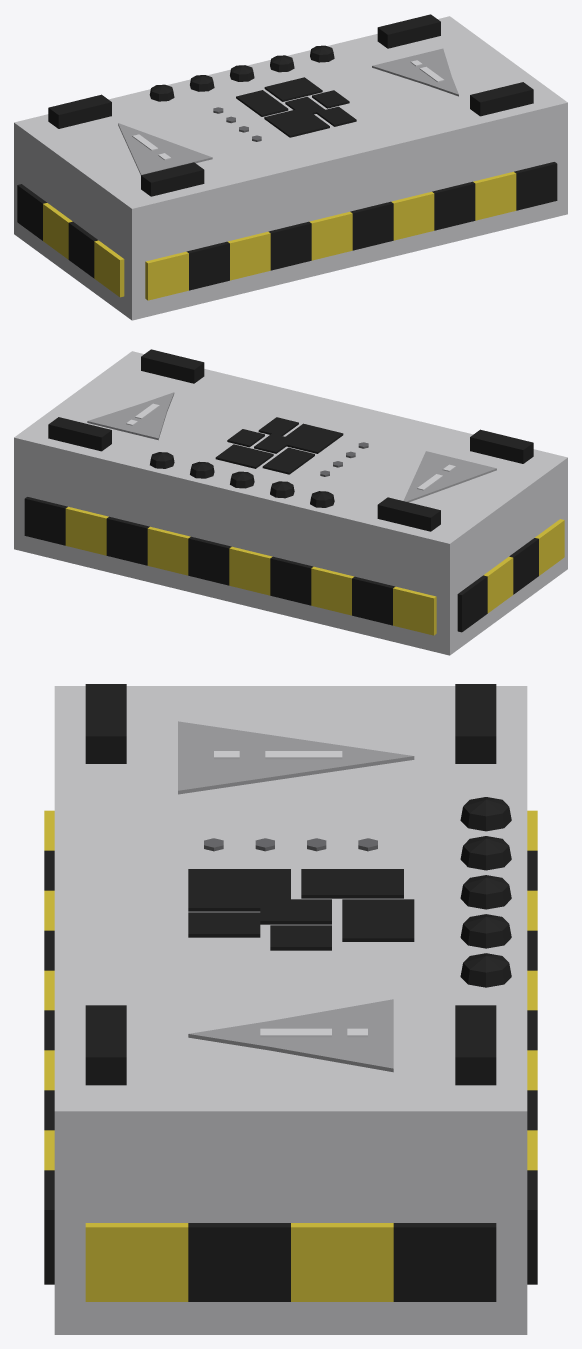
Rendered from vge_black_box.obj.
The picture shows the model from 3 angles, top to bottom: view 1: azimuth 30°, elevation 25°; view 2: azimuth 150°, elevation 25°; view 3: azimuth 270°, elevation 25°; orthographic projection. The views are drawn at different scales.
Visible parts, largest first — view 1: vge_black_box_0, vge_black_box_33, vge_black_box_36, vge_black_box_5, vge_black_box_11, vge_black_box_13, vge_black_box_15, vge_black_box_17, vge_black_box_19, vge_black_box_21, vge_black_box_23, vge_black_box_7 (+14 smaller); view 2: vge_black_box_0, vge_black_box_33, vge_black_box_36, vge_black_box_6, vge_black_box_12, vge_black_box_14, vge_black_box_16, vge_black_box_18, vge_black_box_20, vge_black_box_22, vge_black_box_24, vge_black_box_8 (+15 smaller); view 3: vge_black_box_0, vge_black_box_33, vge_black_box_26, vge_black_box_32, vge_black_box_28, vge_black_box_30, vge_black_box_36, vge_black_box_43, vge_black_box_3, vge_black_box_4, vge_black_box_1, vge_black_box_2 (+12 smaller).
Part boxes in pixels (<box>): vge_black_box_0: <box>14,16,567,320</box>; vge_black_box_33: <box>118,123,212,175</box>; vge_black_box_36: <box>372,48,458,96</box>; vge_black_box_5: <box>145,251,188,300</box>; vge_black_box_11: <box>268,221,311,270</box>; vge_black_box_13: <box>309,211,352,260</box>; vge_black_box_15: <box>350,201,393,250</box>; vge_black_box_17: <box>391,191,434,240</box>; vge_black_box_19: <box>432,181,475,230</box>; vge_black_box_21: <box>473,171,516,220</box>; vge_black_box_23: <box>514,162,557,210</box>; vge_black_box_7: <box>186,241,229,290</box>; vge_black_box_0: <box>14,351,567,655</box>; vge_black_box_33: <box>403,451,496,502</box>; vge_black_box_36: <box>87,392,174,440</box>; vge_black_box_6: <box>393,586,436,635</box>; vge_black_box_12: <box>270,556,313,605</box>; vge_black_box_14: <box>229,546,272,595</box>; vge_black_box_16: <box>188,536,231,585</box>; vge_black_box_18: <box>147,526,190,575</box>; vge_black_box_20: <box>106,516,149,565</box>; vge_black_box_22: <box>65,506,108,555</box>; vge_black_box_24: <box>24,497,67,545</box>; vge_black_box_8: <box>352,576,395,625</box>; vge_black_box_0: <box>54,686,527,1334</box>; vge_black_box_33: <box>178,721,414,794</box>; vge_black_box_26: <box>85,1223,188,1301</box>; vge_black_box_32: <box>393,1223,496,1301</box>; vge_black_box_28: <box>188,1223,290,1301</box>; vge_black_box_30: <box>291,1223,393,1301</box>; vge_black_box_36: <box>188,999,393,1072</box>; vge_black_box_43: <box>188,869,290,911</box>; vge_black_box_3: <box>85,1005,126,1085</box>; vge_black_box_4: <box>455,1005,496,1085</box>; vge_black_box_1: <box>85,684,126,763</box>; vge_black_box_2: <box>455,684,496,763</box>.
Bounding box in the file's own units: 2 × 0.54 × 0.96.
